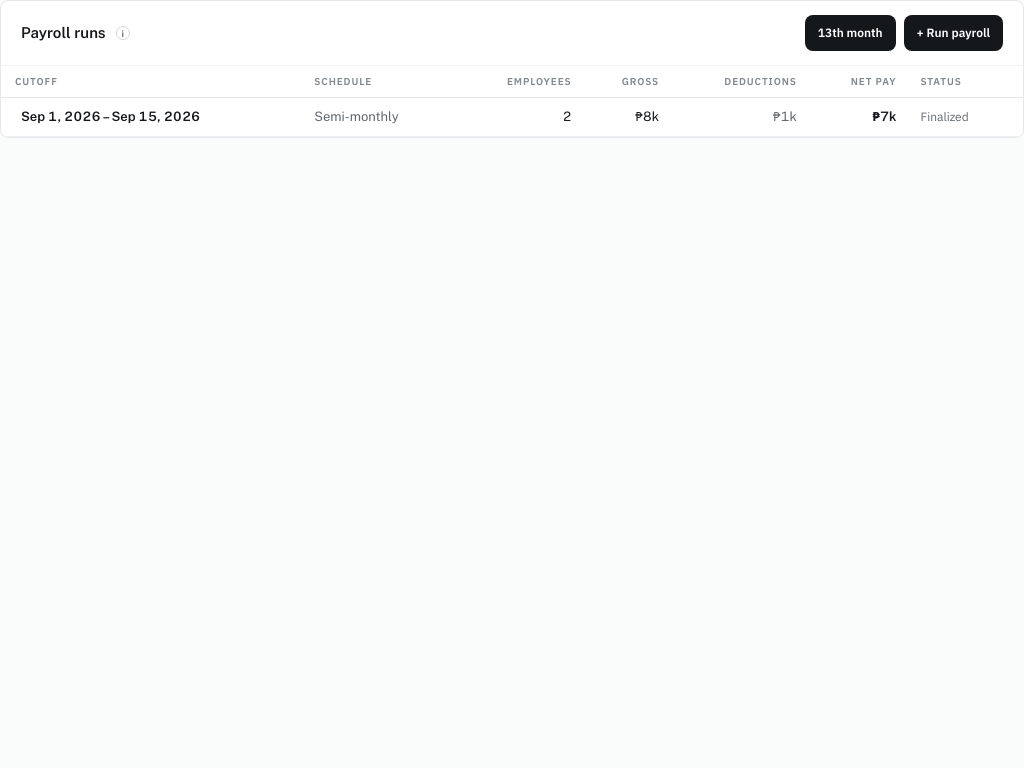
it: Payroll run › locks a finalized run
The image size is (1024, 768).
Click the row "Sep 1, 2026".
click(512, 117)  # box left=1, top=98, right=1023, bottom=136
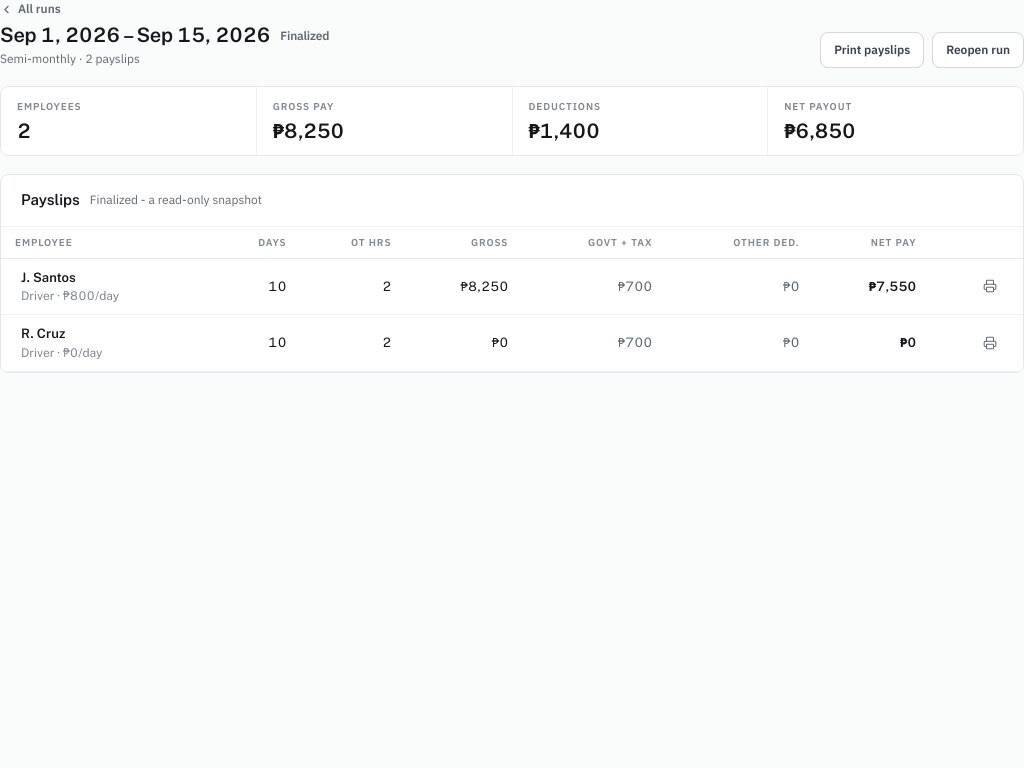
Expected: the button "Reopen run" is shown, left=932, top=32, right=1023, bottom=68
Click the row "J. Santos Driver · ₱800/day 10 2 ₱8,250 ₱700 ₱0 ₱7,550".
click(512, 286)  # box left=1, top=258, right=1023, bottom=314
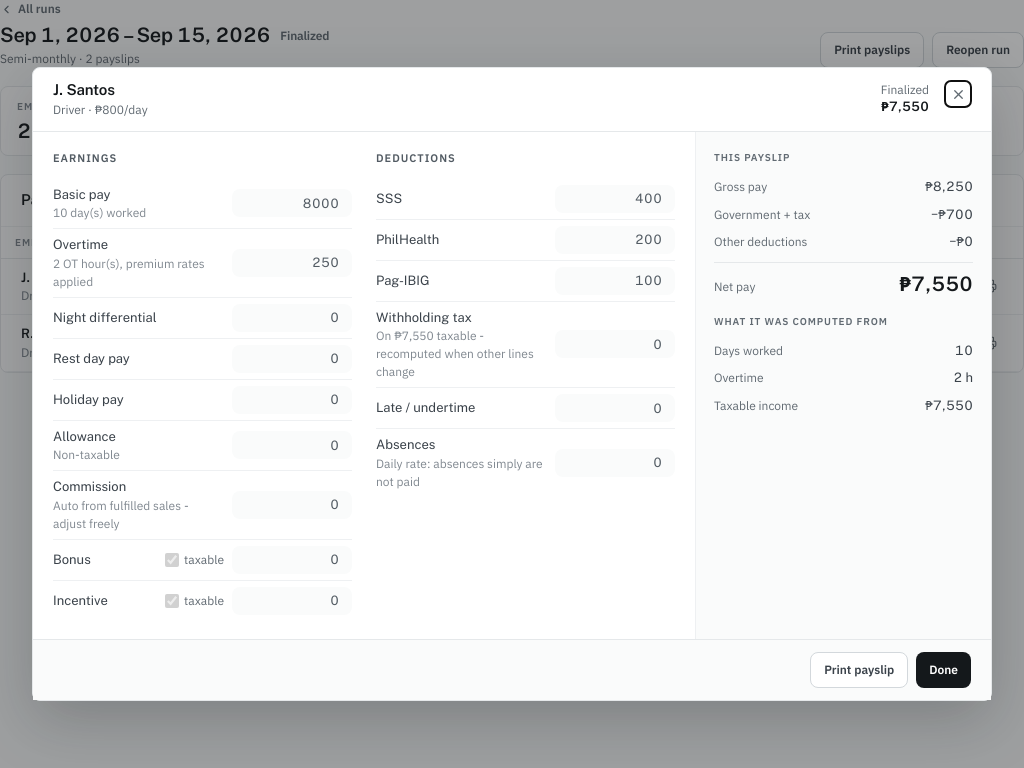
Expected: the number field named "Basic pay" is disabled, left=232, top=189, right=352, bottom=217
